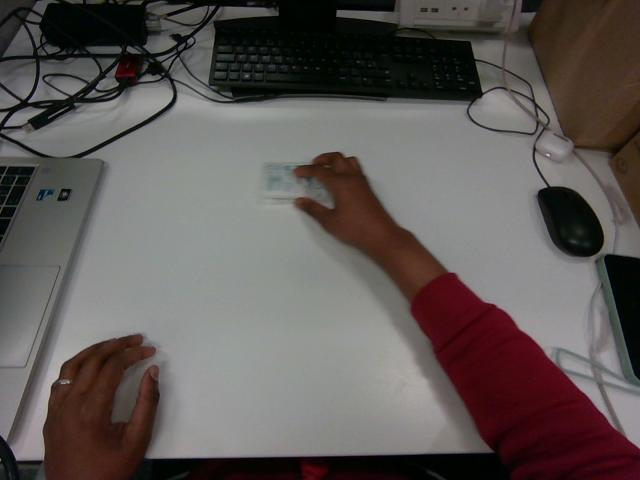gauze: (260, 163, 332, 206)
